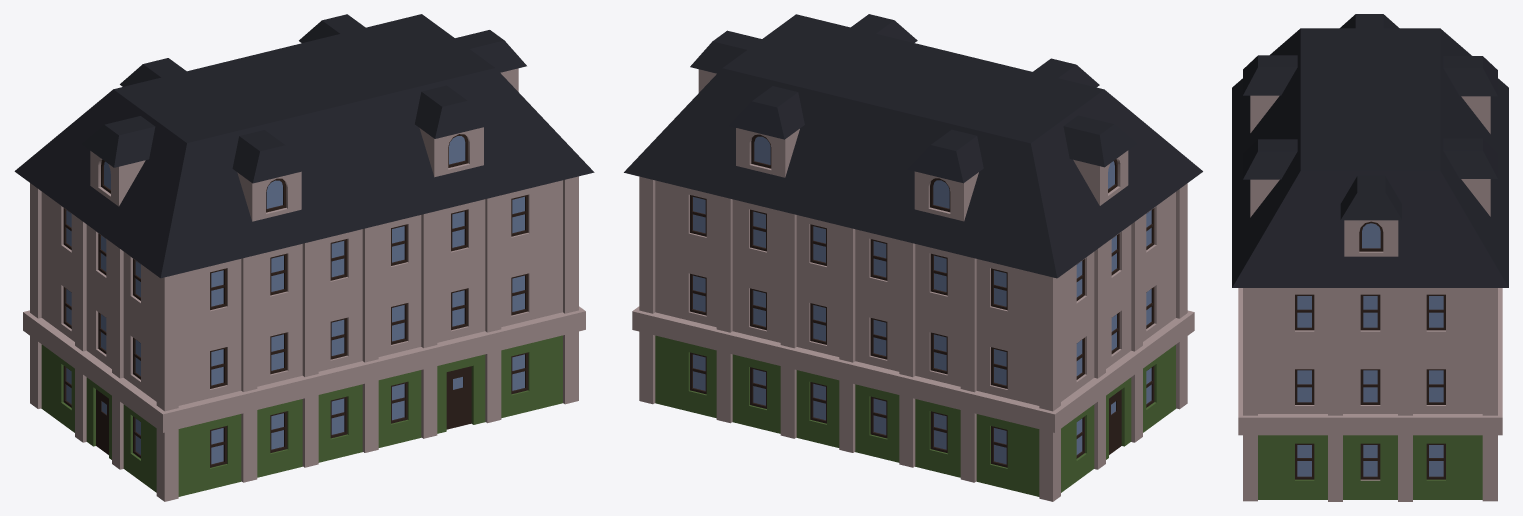
File: GovernmentBuilding_01.fbx
3 views of the same model, side by side, from view 1: azimuth 30°, elevation 25°; view 2: azimuth 150°, elevation 25°; view 3: azimuth 270°, elevation 25° (orthographic). The views are drawn at different scales.
Parts seen in each view (by area): view 1: GovernmentBuilding_01; view 2: GovernmentBuilding_01; view 3: GovernmentBuilding_01.
Boxes of the visible parts, x1=… form: GovernmentBuilding_01: x1=14, y1=14, x2=594, y2=501; GovernmentBuilding_01: x1=624, y1=14, x2=1202, y2=501; GovernmentBuilding_01: x1=1232, y1=14, x2=1508, y2=501.
Size of the model in its own units: 22.24 by 15.88 by 12.98.
